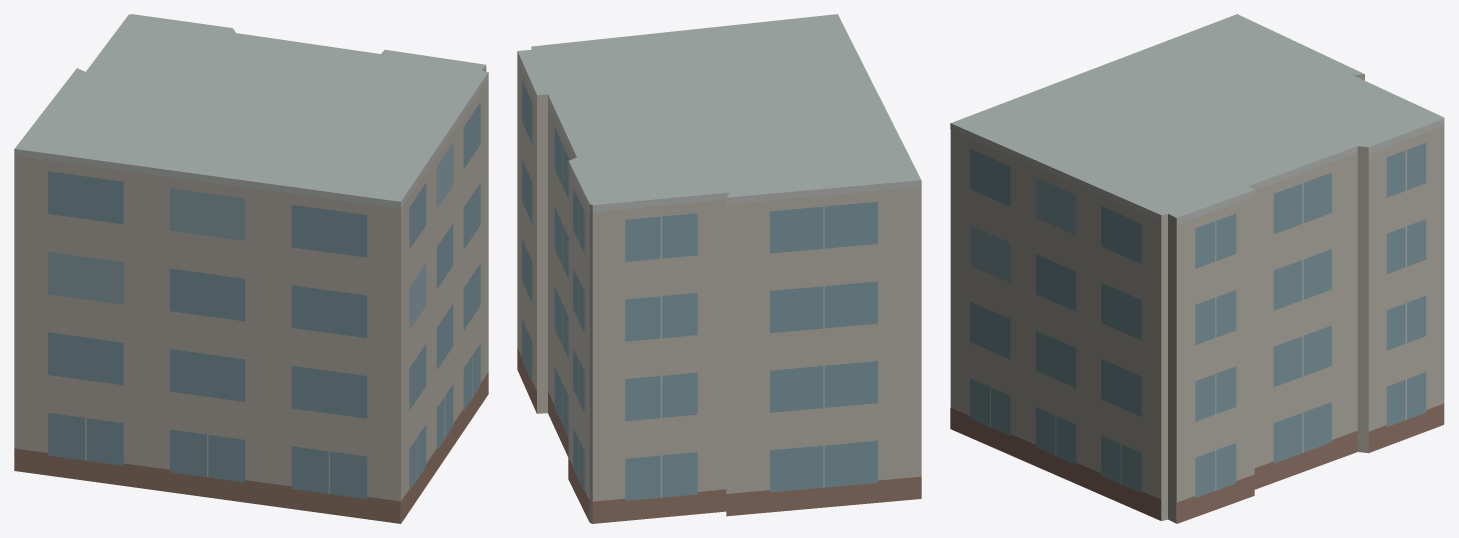
Rendered from survey-upis-32813549.glb.
The picture shows the model from 3 angles, left to right: view 1: azimuth 30°, elevation 25°; view 2: azimuth 150°, elevation 25°; view 3: azimuth 270°, elevation 25°; orthographic projection. The views are drawn at different scales.
Visible parts, largest first — view 1: survey-upis-32813549.tmp; view 2: survey-upis-32813549.tmp; view 3: survey-upis-32813549.tmp.
Boxes of the visible parts, <box> form: survey-upis-32813549.tmp: <box>14,14,488,523</box>; survey-upis-32813549.tmp: <box>517,14,921,523</box>; survey-upis-32813549.tmp: <box>950,14,1444,523</box>.
Bounding box in the file's own units: 16.17 × 11.3 × 16.54.
